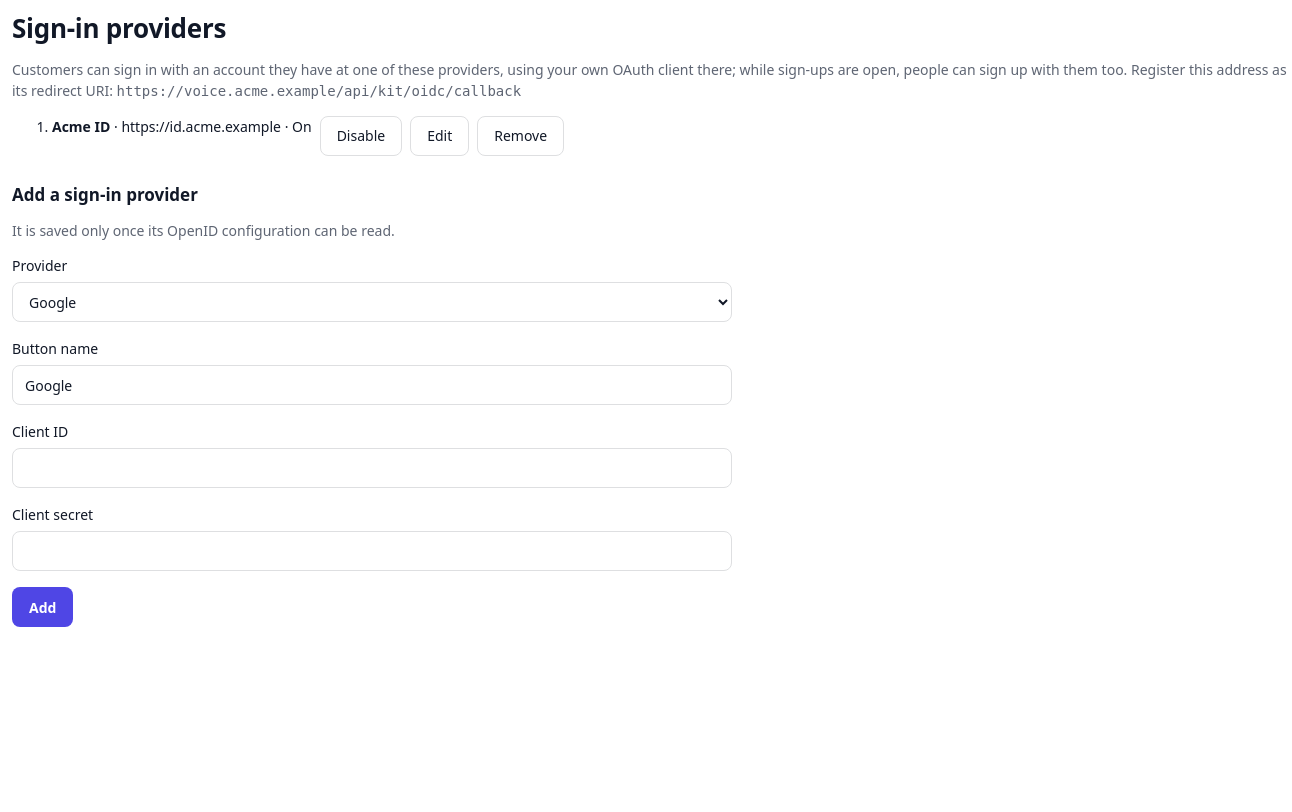
it: Admin → Sign-in providers › enables and disables a provider keeping its secret, and removes it only after asking
Click the button "Disable": (361, 136) [320,116,402,156]
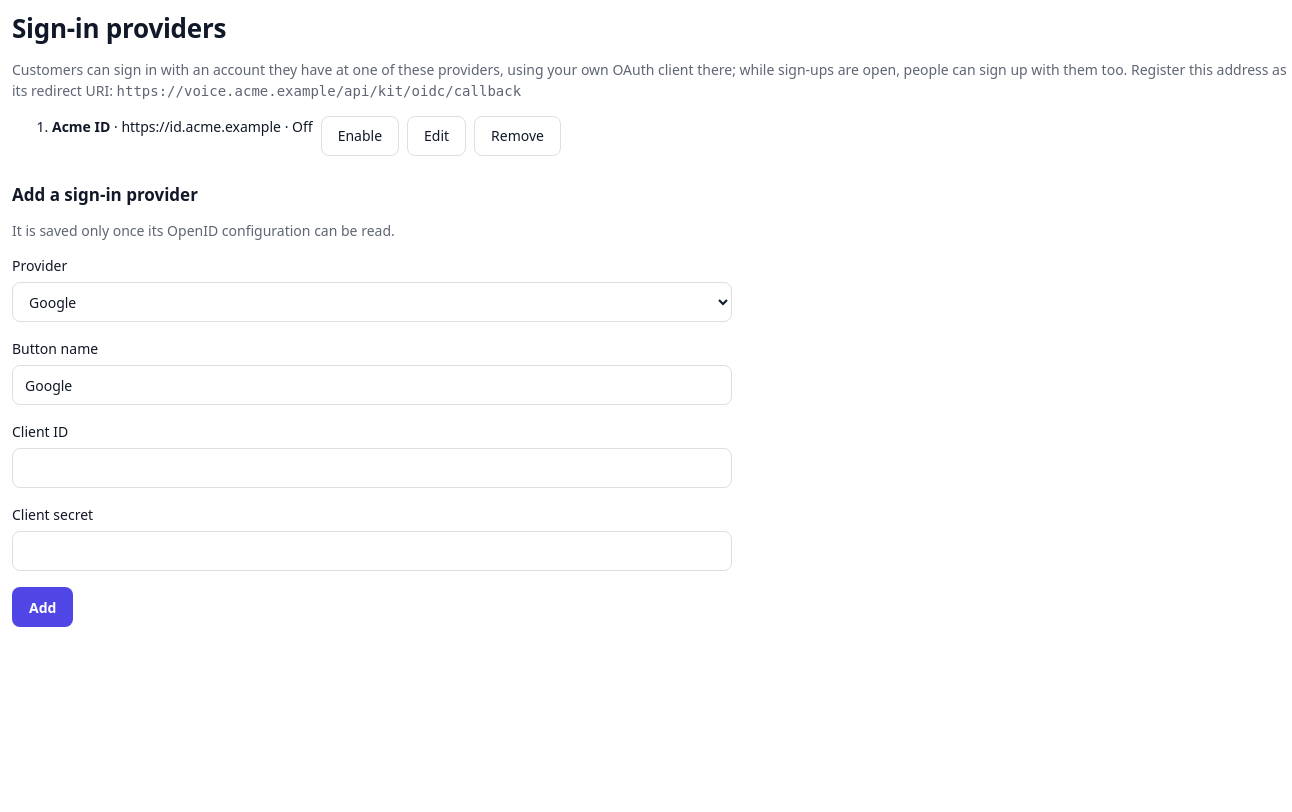
Check: the button "Enable" is shown, box [321,116,399,156]
Click the button "Remove": (518, 136) [474,116,561,156]
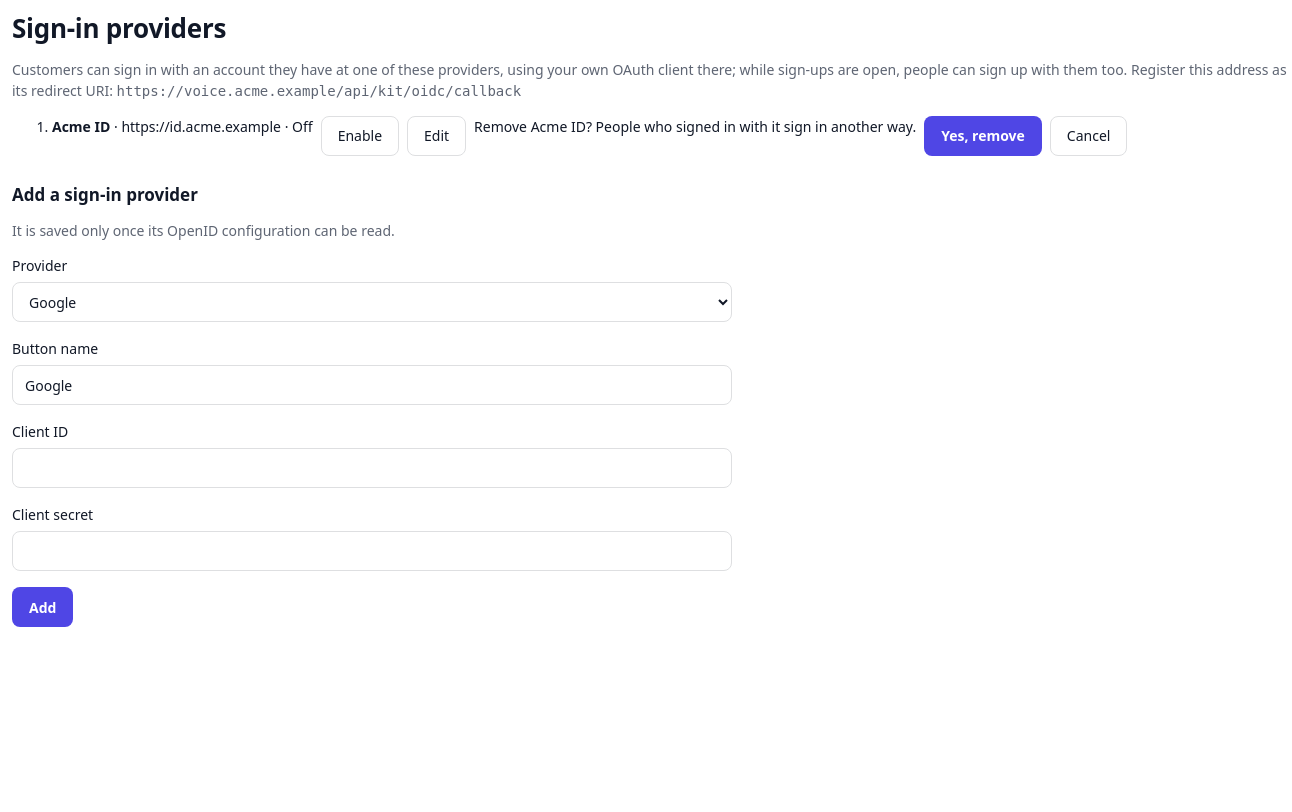
Check: the text "Remove Acme ID? People who signed in with it sign in another way." is shown, box [474,116,916,136]
Click the button "Yes, remove": (983, 136) [924,116,1042,156]
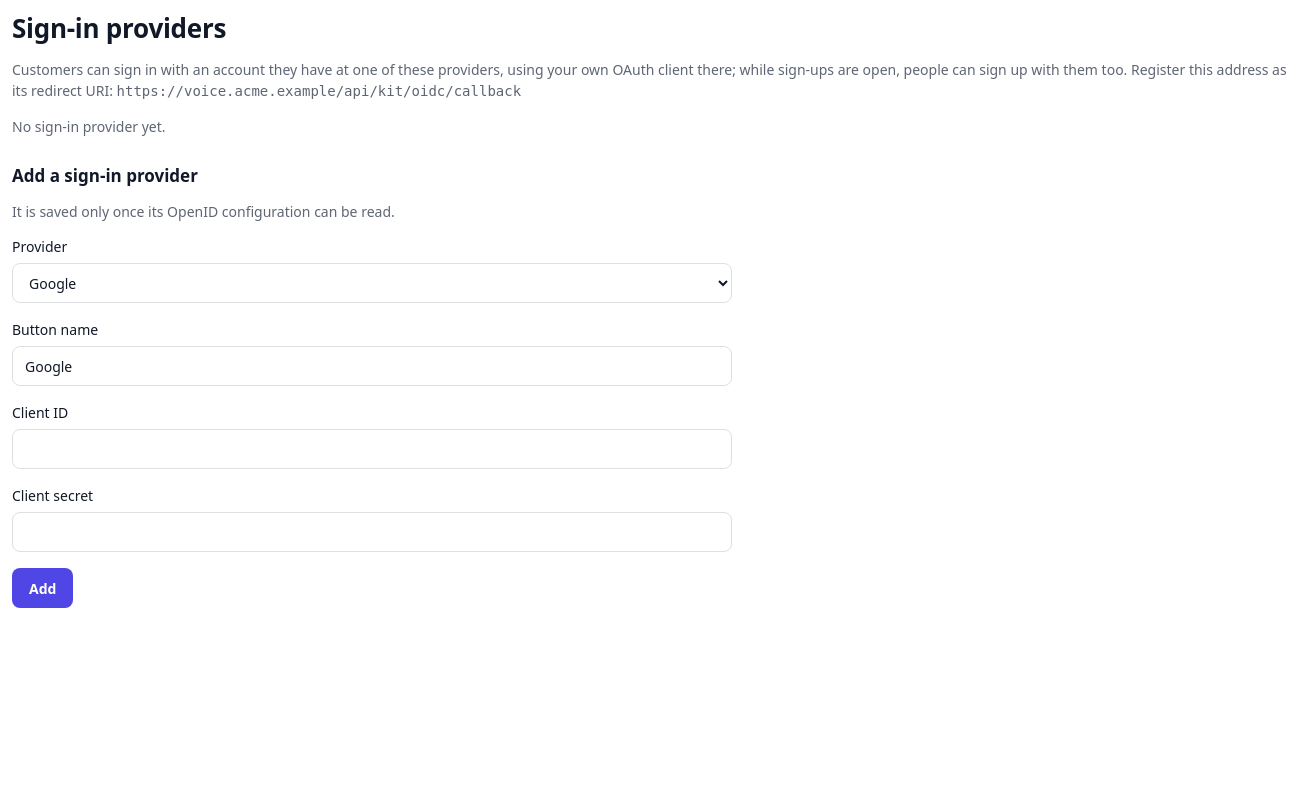
Check: the text "No sign-in provider yet." is shown, box [12,116,166,136]
